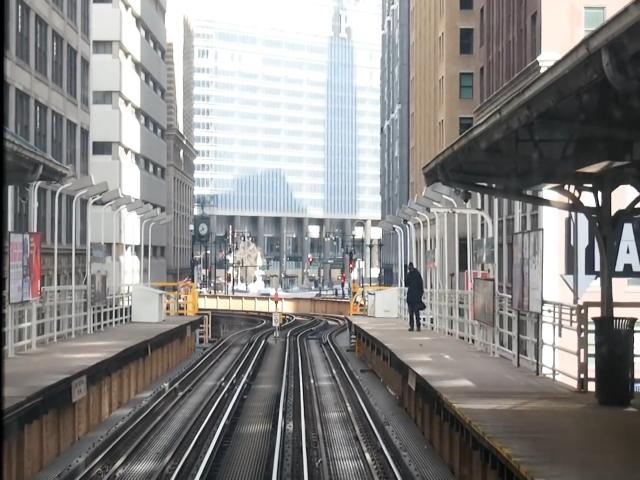signal light: (349, 252, 356, 276)
